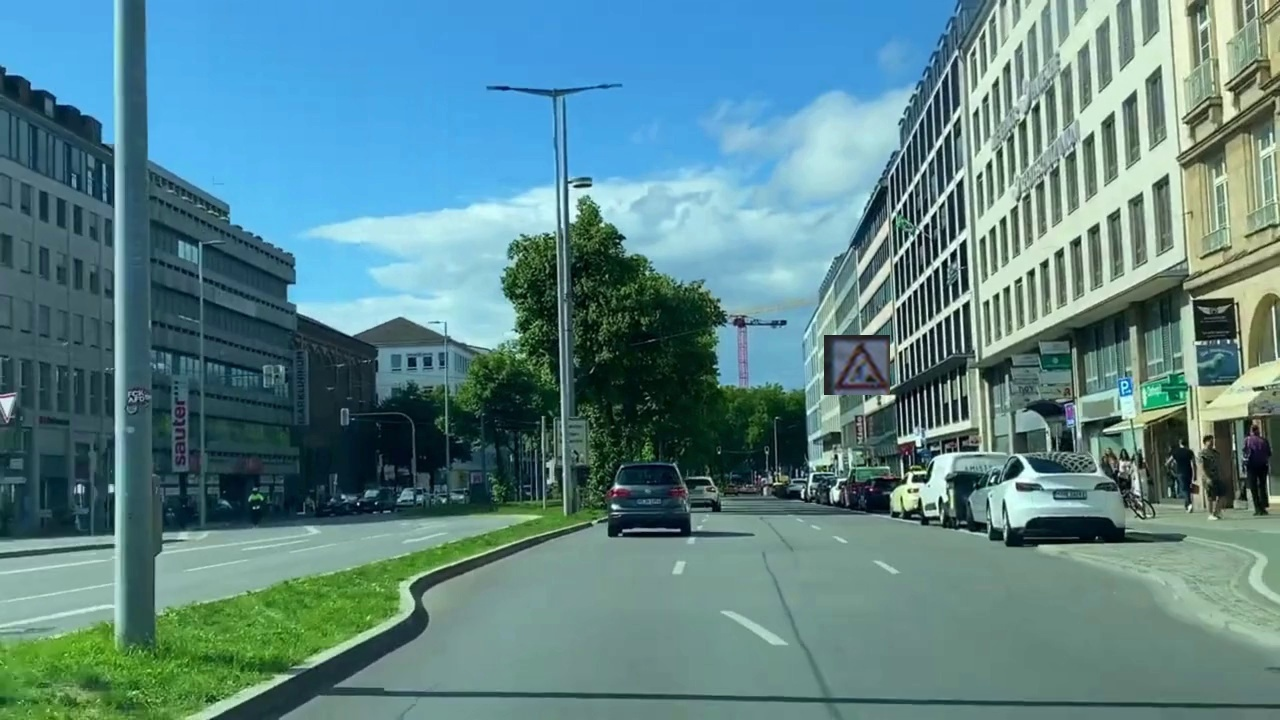Road work: (824, 335, 890, 395)
